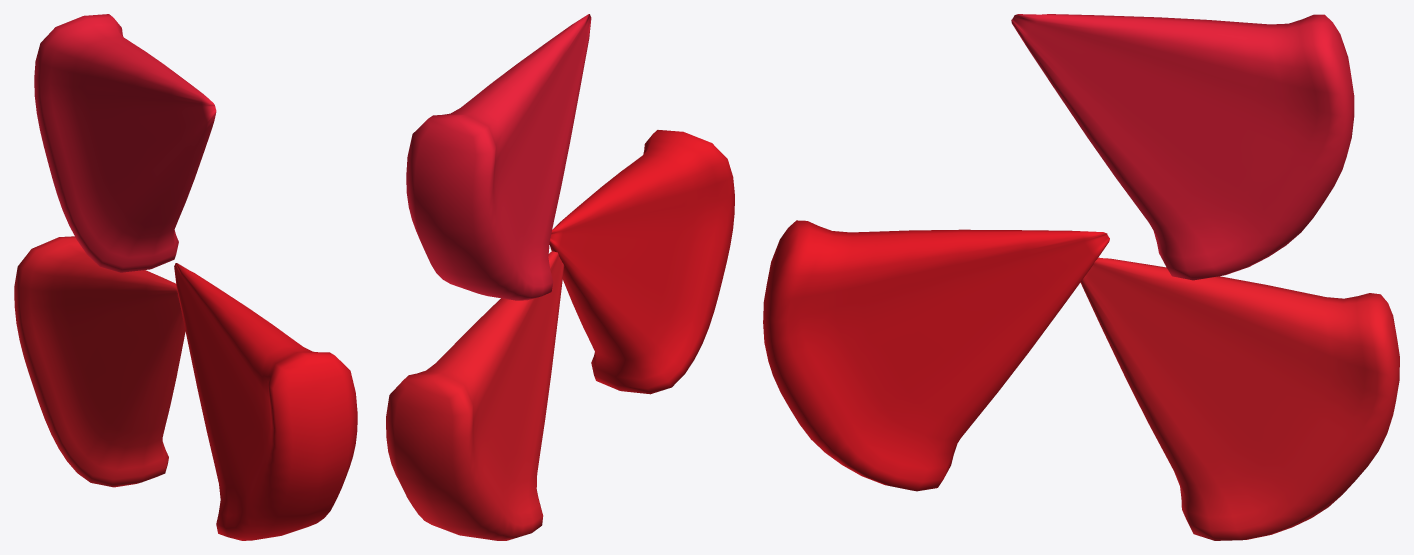
Rendered from RevanadaSandia.fbx.
3 renders of one model, left to right at view 1: azimuth 30°, elevation 25°; view 2: azimuth 150°, elevation 25°; view 3: azimuth 270°, elevation 25°, orthographic. The views are drawn at different scales.
Parts seen in each view (by area): view 1: Cube.001, Cube, Cube.002; view 2: Cube.002, Cube.001, Cube; view 3: Cube.001, Cube.002, Cube.
Boxes of the visible parts, x1,y1,x2,y2 form: Cube.001: (34, 14, 216, 272); Cube: (14, 236, 185, 487); Cube.002: (174, 263, 357, 540); Cube.002: (549, 130, 734, 394); Cube.001: (406, 14, 591, 300); Cube: (386, 251, 564, 540); Cube.001: (1011, 14, 1354, 280); Cube.002: (763, 220, 1109, 491); Cube: (1080, 257, 1399, 540).
Size of the model in its own units: 75.98 by 395 by 444.
